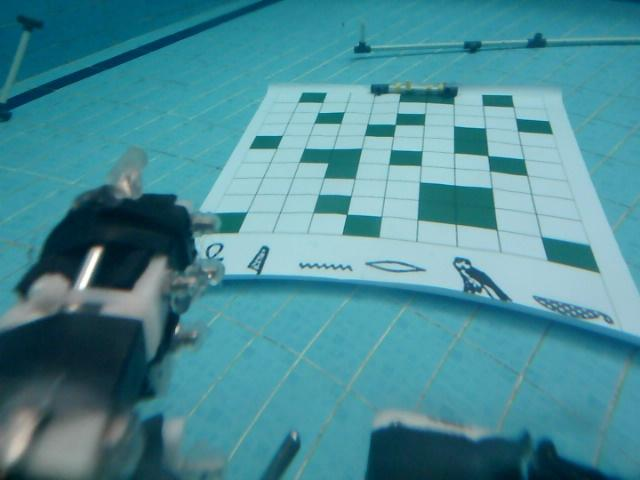Ankh: (198, 239, 231, 276)
Basket: (529, 289, 611, 328)
Mouth: (365, 251, 428, 278)
Owl: (449, 251, 516, 305)
Reed: (247, 243, 272, 277)
Water: (294, 259, 354, 276)
